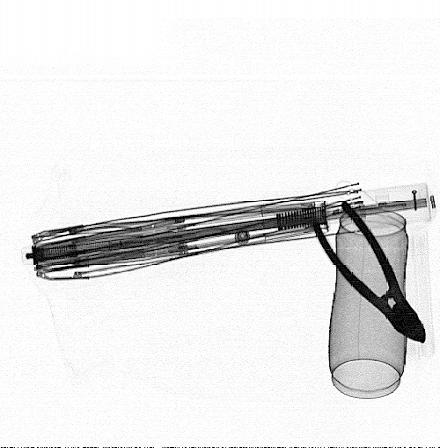Pliers: (307, 199, 428, 346)
